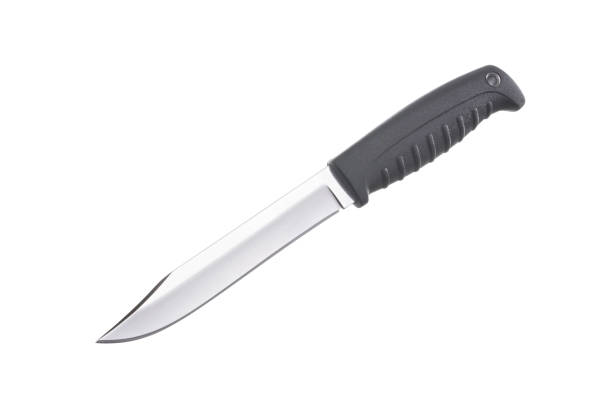knife: (97, 63, 526, 346)
